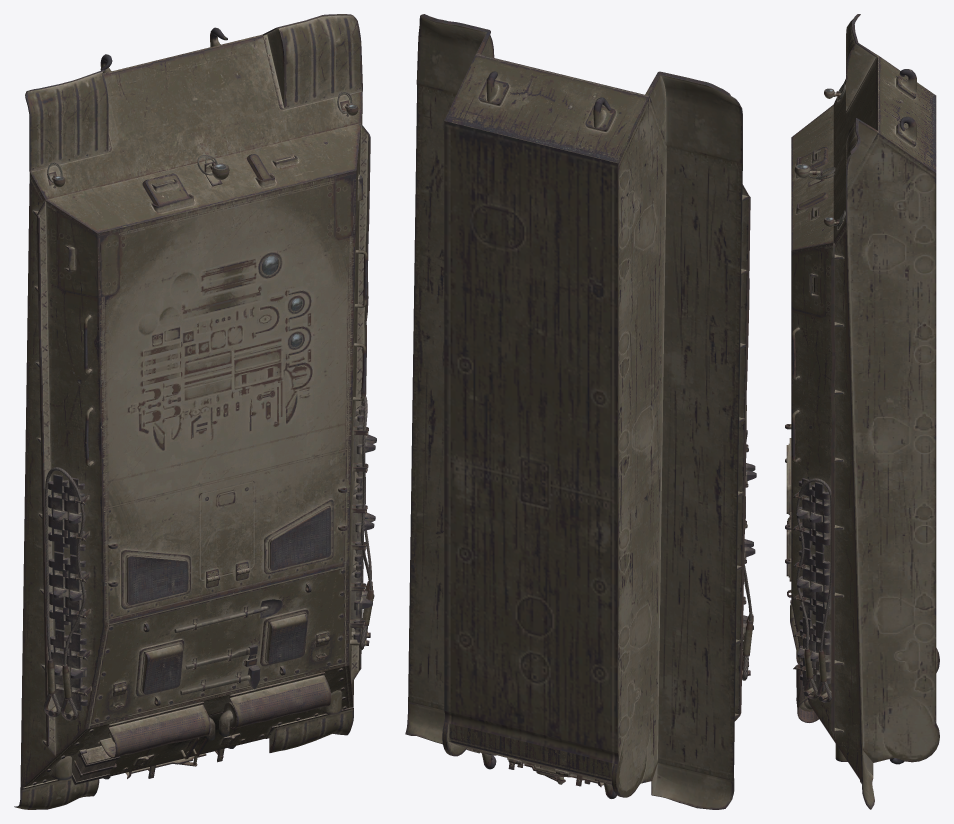
The model's file is Hull.glb.
The picture shows the model from 3 angles, left to right: view 1: azimuth 30°, elevation 25°; view 2: azimuth 150°, elevation 25°; view 3: azimuth 270°, elevation 25°; orthographic projection. The views are drawn at different scales.
Parts seen in each view (by area): view 1: set_0_group_0; view 2: set_0_group_0; view 3: set_0_group_0.
Boxes of the visible parts, x1,y1,x2,y2 form: set_0_group_0: [14, 14, 376, 809]; set_0_group_0: [405, 14, 756, 809]; set_0_group_0: [785, 14, 939, 809].
Bounding box in the file's own units: 3.2 × 6.75 × 1.44.
Materials: 1 (1 with a texture image).
